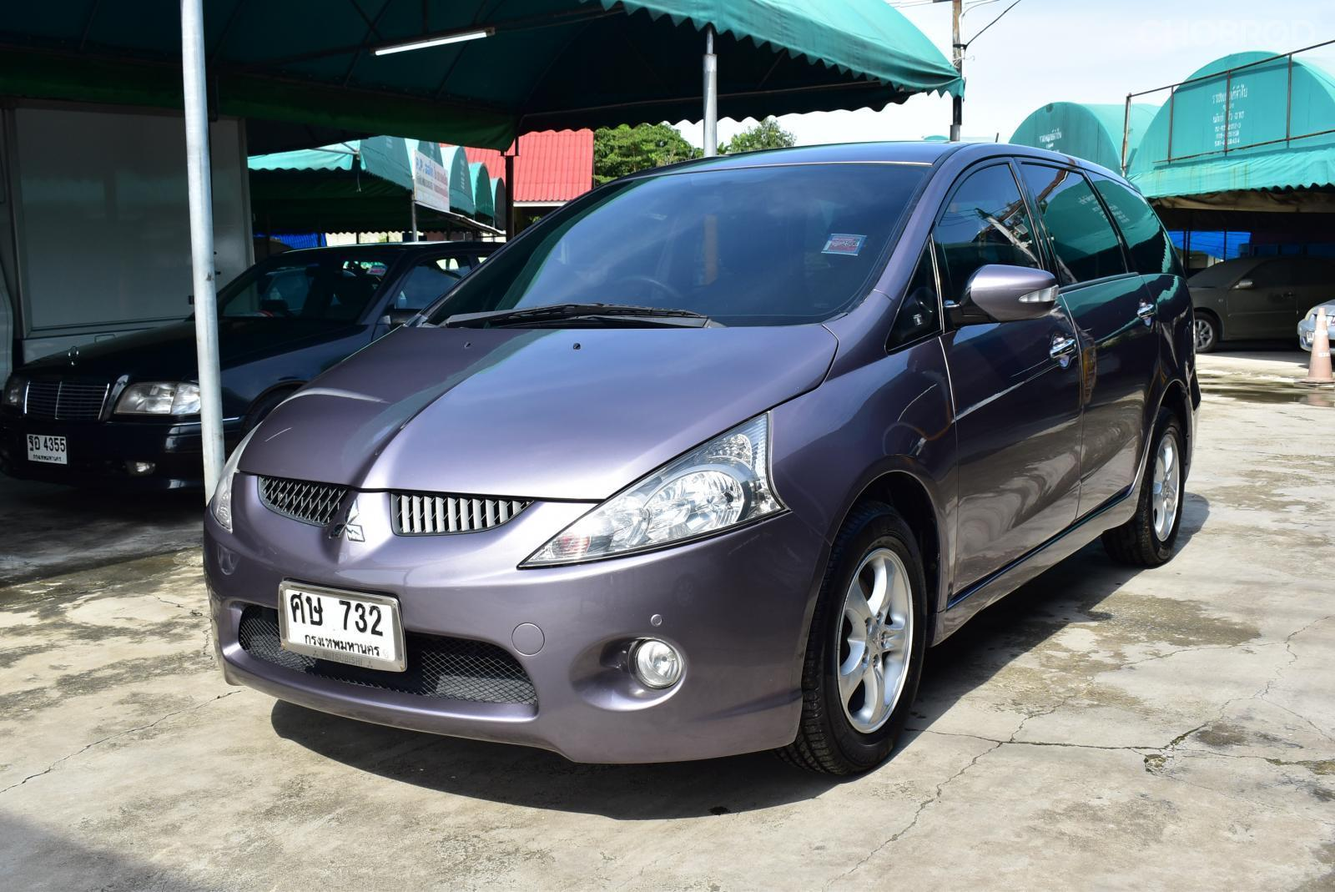license-plate: (267, 571, 414, 689)
